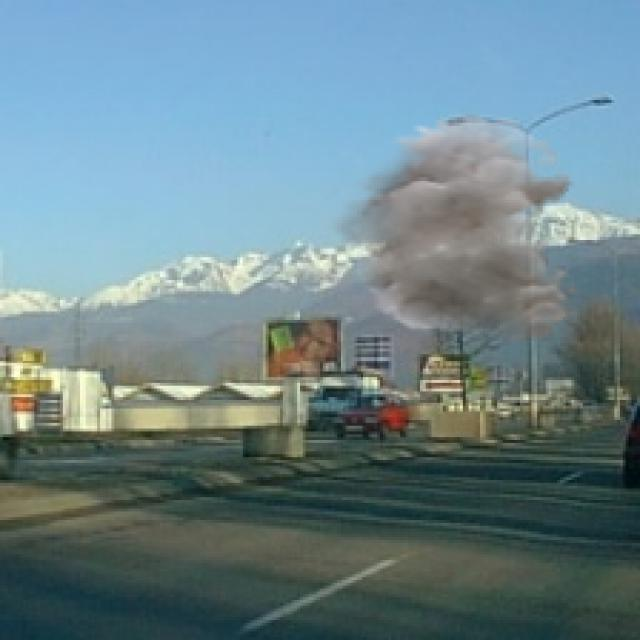Smoke: (326, 114, 580, 343)
